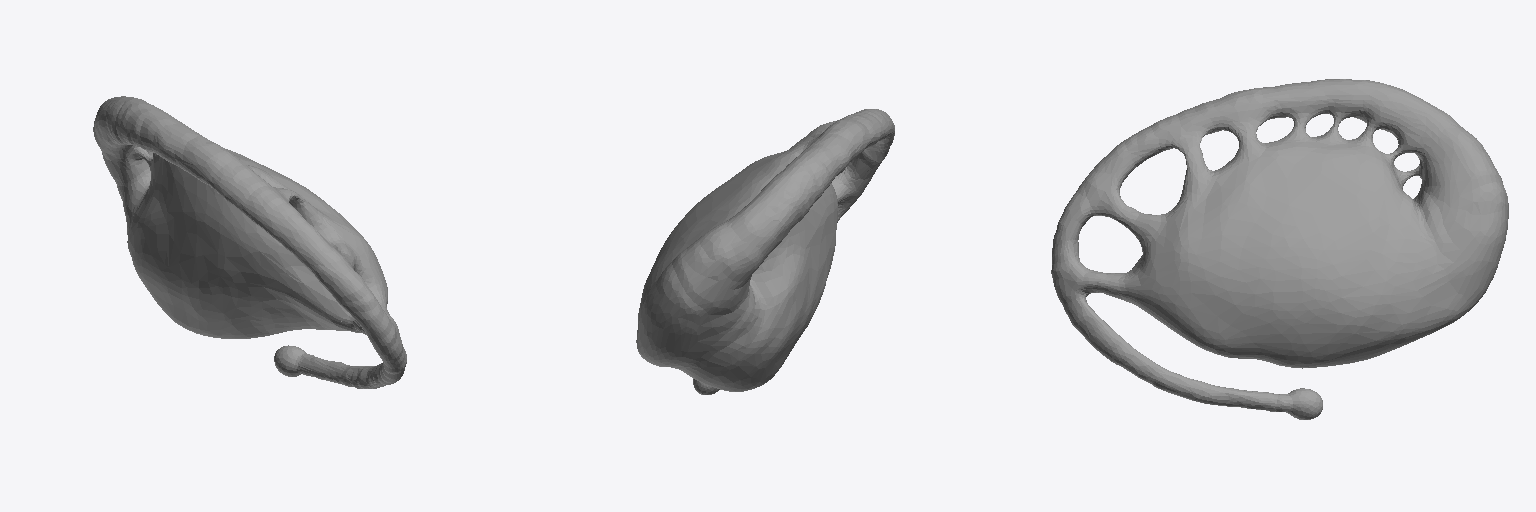
File: rightstriatum.obj
The picture shows the model from 3 angles: view 1: azimuth 30°, elevation 25°; view 2: azimuth 150°, elevation 25°; view 3: azimuth 270°, elevation 25°; orthographic projection.
Visible parts, largest first — view 1: Group6799.001; view 2: Group6799.001; view 3: Group6799.001.
Boxes of the visible parts, x1,y1,x2,y2 form: Group6799.001: [93, 96, 406, 388]; Group6799.001: [636, 109, 894, 394]; Group6799.001: [1051, 79, 1508, 419].
Size of the model in its own units: 7 by 10.17 by 15.06.